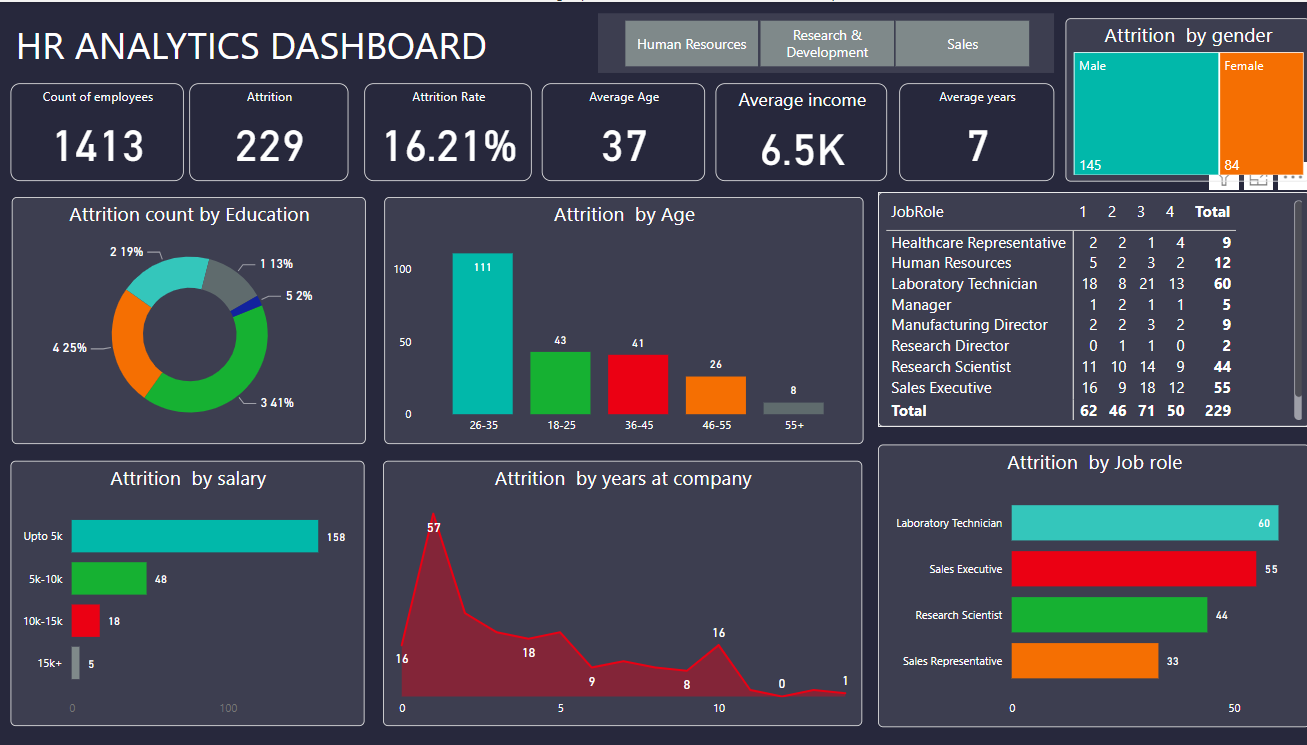

The page's visual inventory and layout, read from the dashboard file:
{"tool":"powerbi","page":{"name":"Page 1","canvas":[1280,720],"ordinal":0},"visuals":[{"type":"card","title":"Count of employees","fields":{"Values":["CountNonNull(HR_Analytics.EmpID)"]},"box":[12.3,78.1,167.3,94.6],"z":0},{"type":"card","title":"Average income","fields":{"Values":["Avg(HR_Analytics.MonthlyIncome)"]},"box":[692.4,78.1,165.9,94.6],"z":1000},{"type":"card","title":"Average Age","fields":{"Values":["Avg(HR_Analytics.Age)"]},"box":[525.1,78.1,157.7,94.6],"z":2000},{"type":"card","title":"Attrition","fields":{"Values":["Sum(HR_Analytics.Attrition count)"]},"box":[185.1,78.1,153.6,94.6],"z":3000},{"type":"card","title":"Attrition Rate","fields":{"Values":["HR_Analytics.attrition rate"]},"box":[353.7,78.1,161.8,94.6],"z":4000},{"type":"card","title":"Average years","fields":{"Values":["Avg(HR_Analytics.YearsAtCompany)"]},"box":[869.2,78.1,149.4,94.6],"z":5000},{"type":"donutChart","title":" Attrition count by Education","fields":{"Category":["HR_Analytics.Education"],"Y":["Sum(HR_Analytics.Attrition count)"]},"box":[13.7,187.8,341.4,238.6],"z":6000},{"type":"areaChart","title":" Attrition  by years at company","fields":{"Y":["Sum(HR_Analytics.Attrition count)"],"Category":["HR_Analytics.YearsAtCompany"]},"box":[371.6,442.8,462,256.4],"z":7000},{"type":"pivotTable","fields":{"Rows":["HR_Analytics.JobRole"],"Columns":["HR_Analytics.JobSatisfaction"],"Values":["Sum(HR_Analytics.Attrition count)"]},"box":[848.7,183.7,416.8,226.2],"z":8000},{"type":"clusteredBarChart","title":" Attrition  by salary","fields":{"Y":["Sum(HR_Analytics.Attrition count)"],"Category":["HR_Analytics.SalarySlab"]},"box":[12.3,442.8,341.4,256.4],"z":9000},{"type":"clusteredBarChart","title":" Attrition  by Job role","fields":{"Y":["Sum(HR_Analytics.Attrition count)"],"Category":["HR_Analytics.JobRole"]},"box":[848.7,426.4,416.8,272.8],"z":10000},{"type":"columnChart","title":" Attrition  by Age","fields":{"Y":["Sum(HR_Analytics.Attrition count)"],"Category":["HR_Analytics.AgeGroup"]},"box":[372.9,187.8,462,238.6],"z":11000},{"type":"treemap","title":" Attrition  by gender","fields":{"Values":["Sum(HR_Analytics.Attrition count)"],"Group":["HR_Analytics.Gender"]},"box":[1029.7,15.1,235.8,157.7],"z":12000},{"type":"textbox","title":"HR ANALYTICS DASHBOARD","box":[12.1,15.7,556,53.1],"z":13000},{"type":"slicer","fields":{"Values":["HR_Analytics.Department"]},"box":[578.9,10.9,440.2,57.9],"z":14000}]}

Visuals, with their boxes in screenshot pixels (x1, y1, x2, y2), scaled from the page's 1280x720 canvas onto the 1307x745 screenshot:
"Count of employees" card: 13 81 183 179
"Average income" card: 707 81 876 179
"Average Age" card: 536 81 697 179
"Attrition" card: 189 81 346 179
"Attrition Rate" card: 361 81 526 179
"Average years" card: 888 81 1040 179
" Attrition count by Education" donutChart: 14 194 363 441
" Attrition  by years at company" areaChart: 379 458 851 723
pivotTable - HR_Analytics.JobRole x HR_Analytics.JobSatisfaction: 867 190 1292 424
" Attrition  by salary" clusteredBarChart: 13 458 361 723
" Attrition  by Job role" clusteredBarChart: 867 441 1292 723
" Attrition  by Age" columnChart: 381 194 853 441
" Attrition  by gender" treemap: 1051 16 1292 179
"HR ANALYTICS DASHBOARD" textbox: 12 16 580 71
slicer - HR_Analytics.Department: 591 11 1041 71
